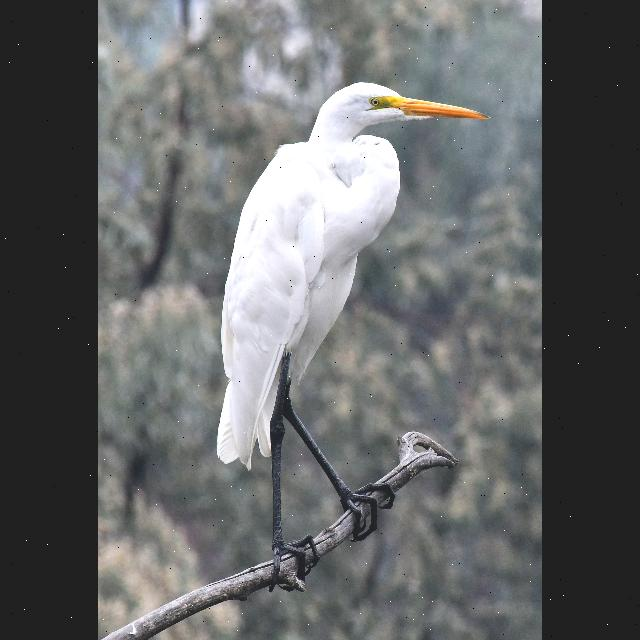egret: (208, 69, 500, 596)
